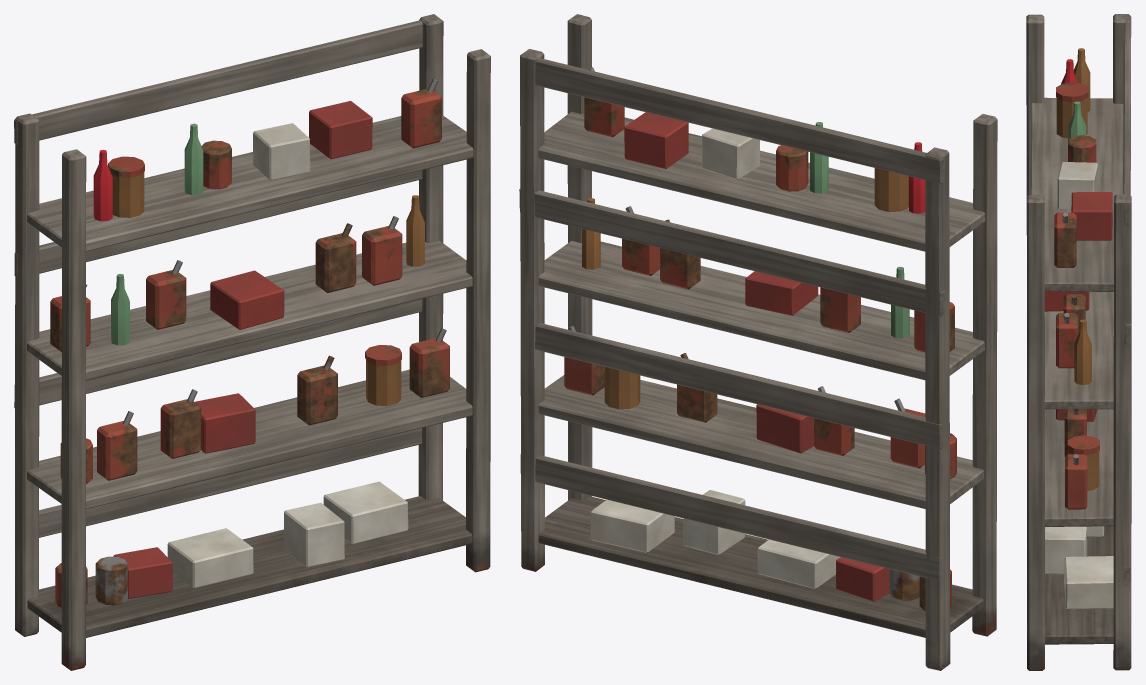
Rendered from ShackShelf.fbx.
3 renders of one model, left to right at view 1: azimuth 30°, elevation 25°; view 2: azimuth 150°, elevation 25°; view 3: azimuth 270°, elevation 25°, orthographic. The views are drawn at different scales.
Parts seen in each view (by area): view 1: ShackShelf; view 2: ShackShelf; view 3: ShackShelf.
Part boxes in pixels (box(x1,y1,x2,y2)): ShackShelf: box(14, 14, 490, 670); ShackShelf: box(519, 14, 997, 670); ShackShelf: box(1026, 14, 1131, 670).
Bounding box in the file's own units: 168 × 196 × 39.79.
1 material, 1 textured.
